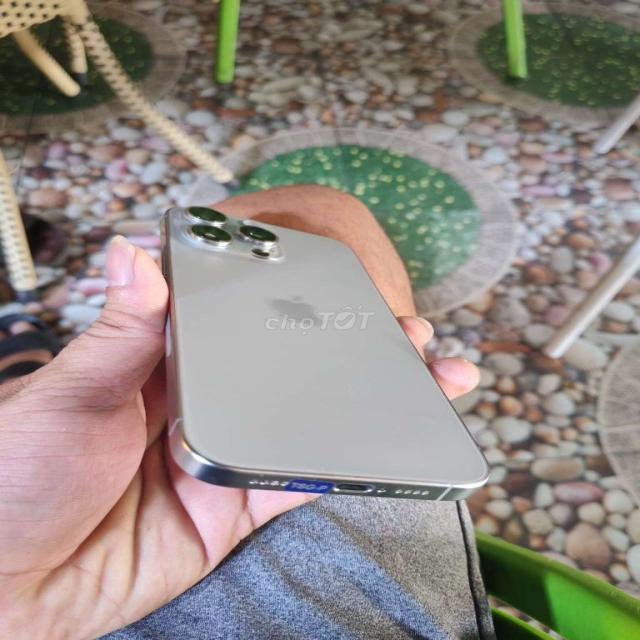scratch: (256, 470, 266, 477)
